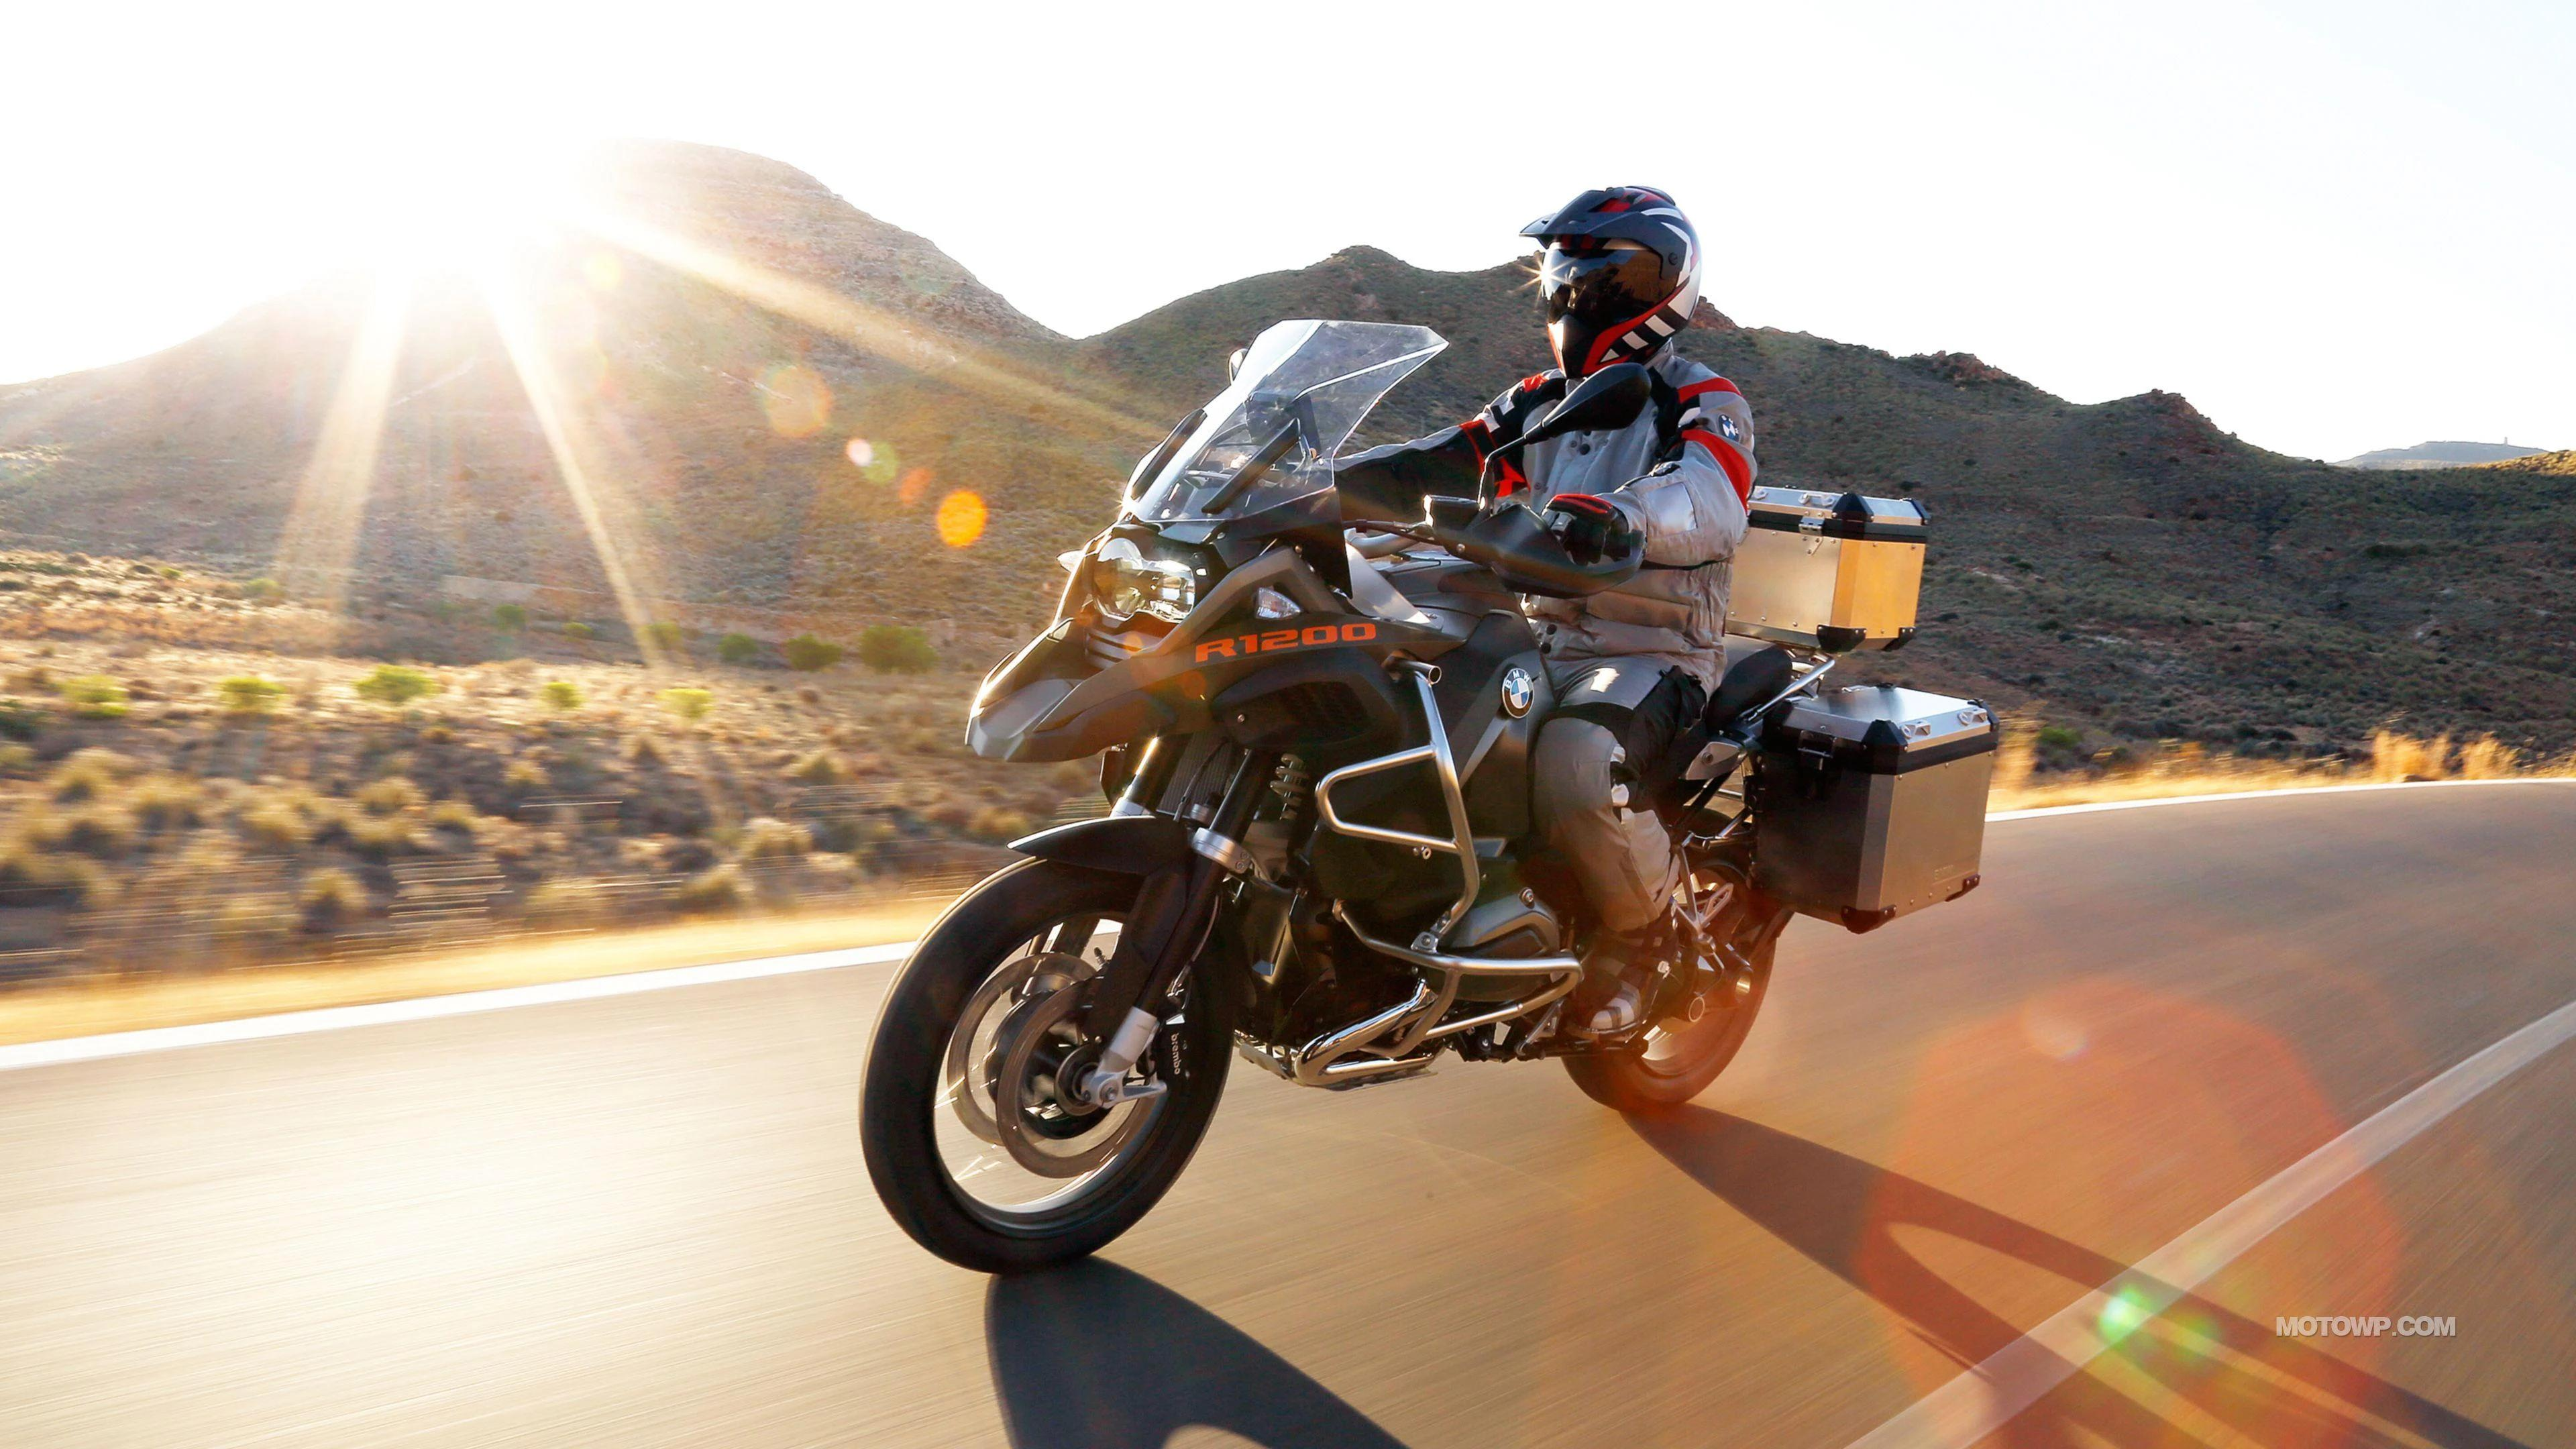Motorcycle: (837, 311, 1955, 1185)
